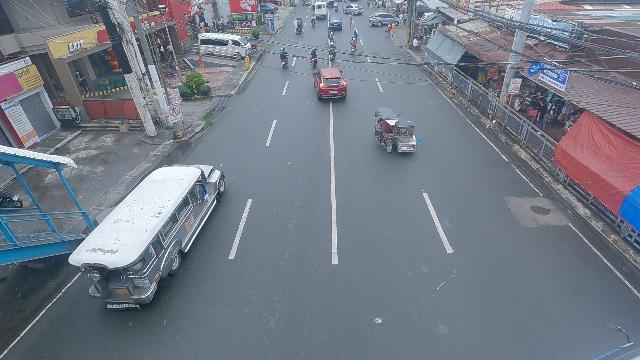car: (312, 67, 348, 101), (368, 13, 400, 27), (343, 4, 363, 15), (329, 17, 343, 31)
jeepney: (69, 163, 226, 313)
motorcycle: (279, 48, 289, 69), (310, 47, 318, 68), (329, 44, 337, 62), (350, 40, 357, 55), (311, 16, 316, 27), (334, 1, 339, 12)
van: (198, 32, 252, 61), (314, 1, 328, 20)
